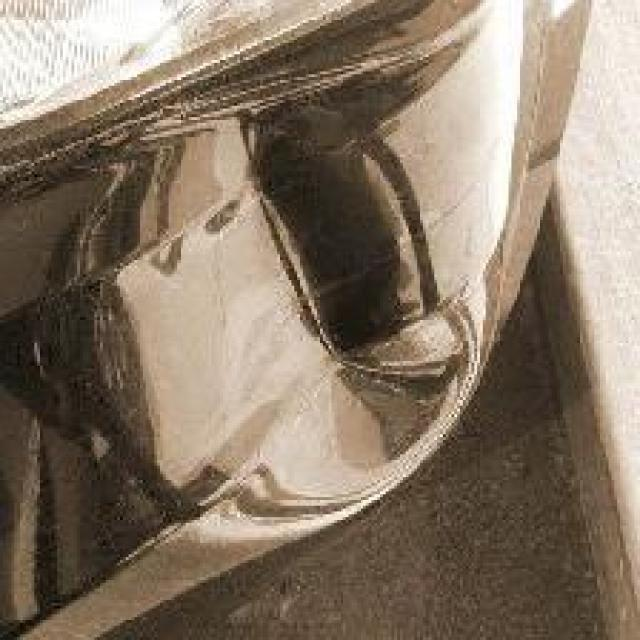damaged: (86, 109, 468, 512)
